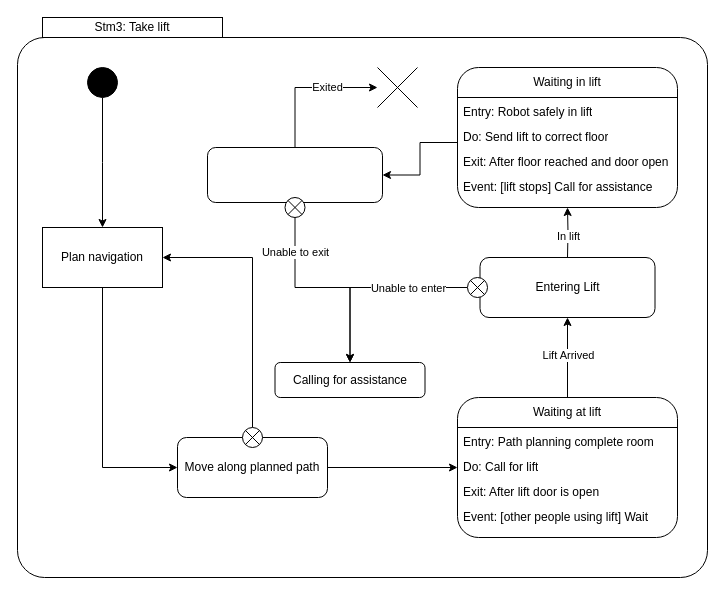
Image size: 725x595. Some labels were removed from this diagram. Each missing label, with the centre of its shape:
Exiting lift: the point at 294,174
Obstacle detected: the point at 252,437
